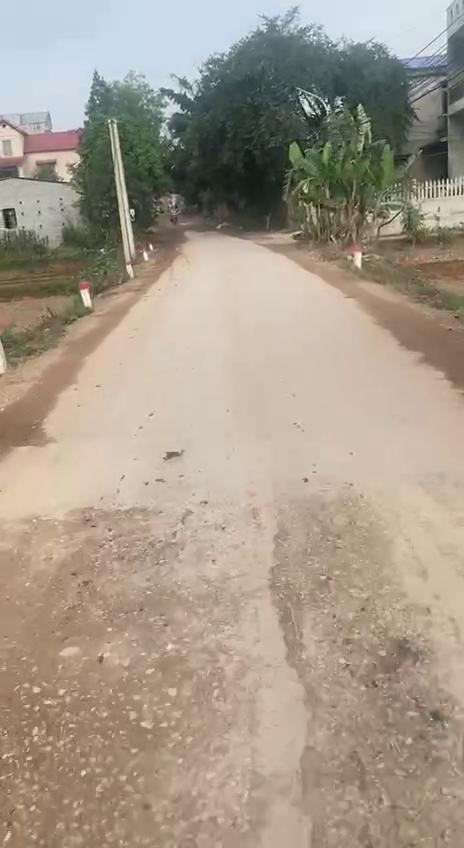pothole: (244, 486, 464, 848)
